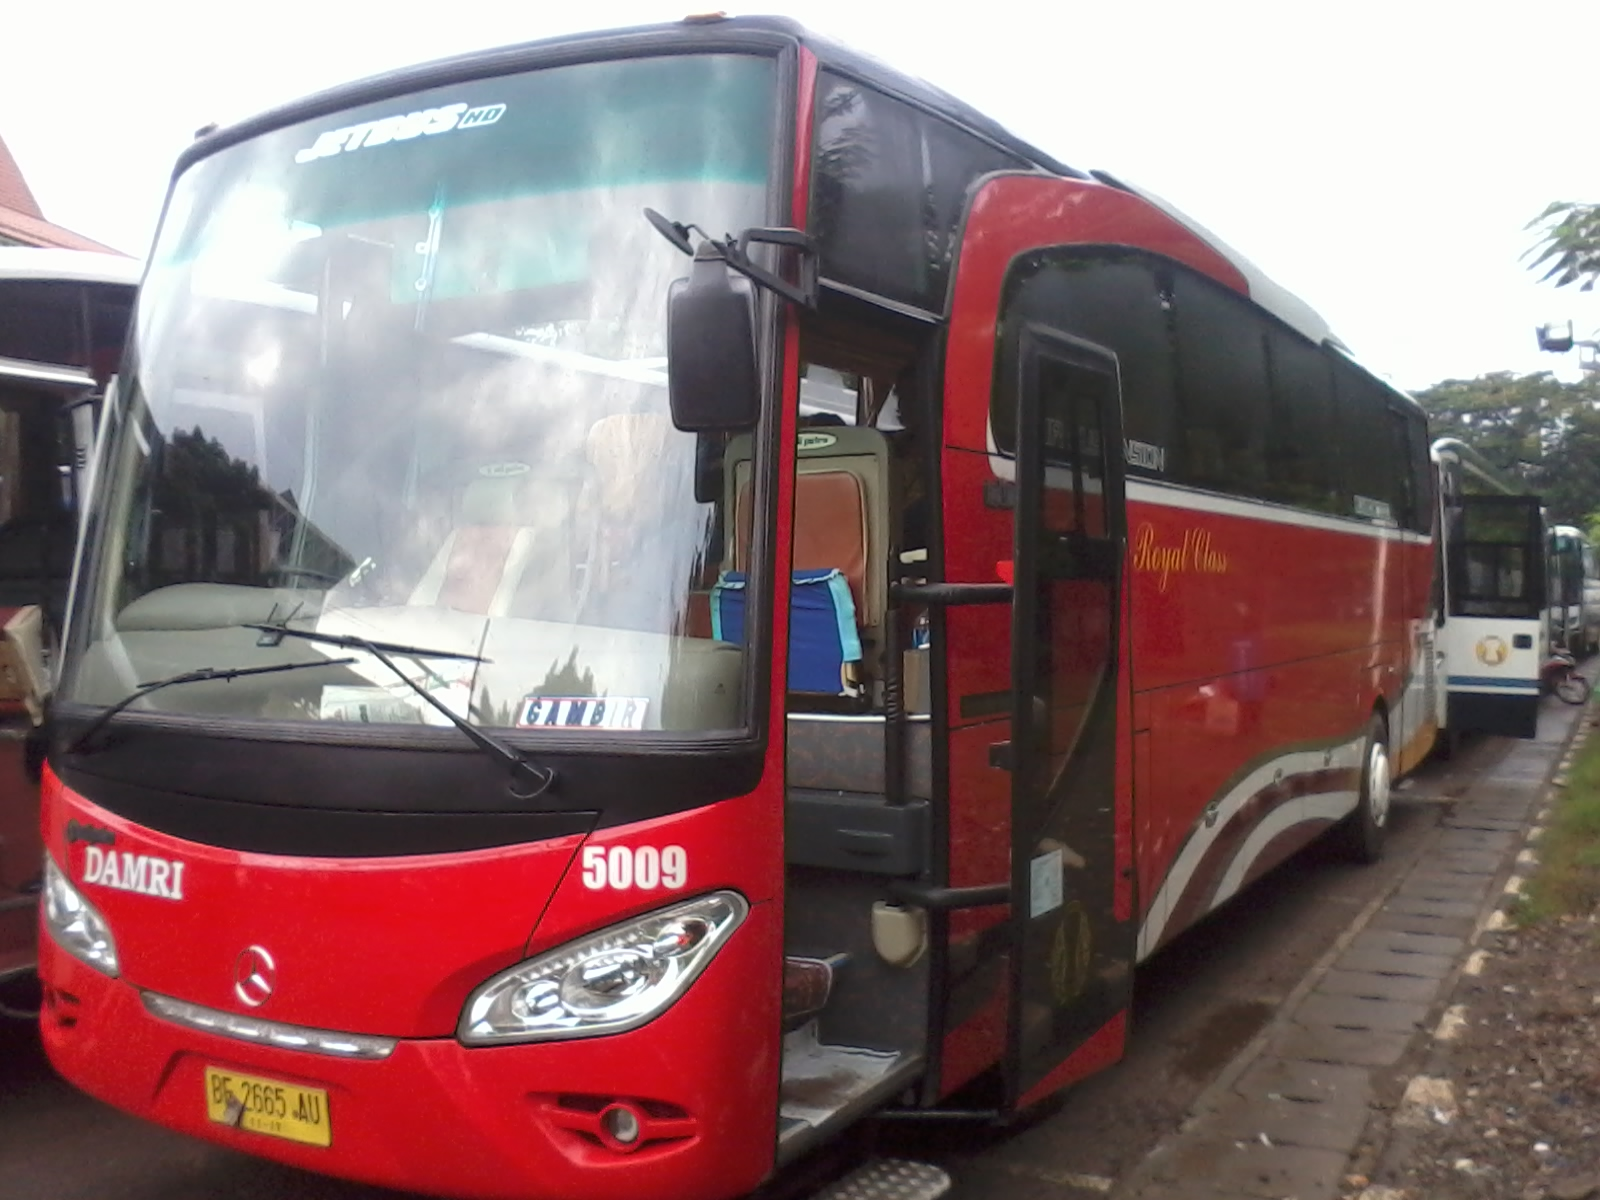plate: (206, 1071, 330, 1147)
